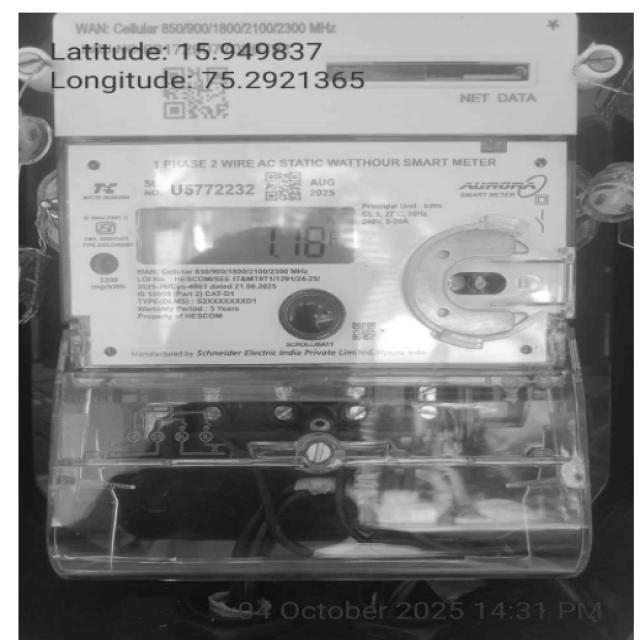meter: (51, 11, 575, 366)
